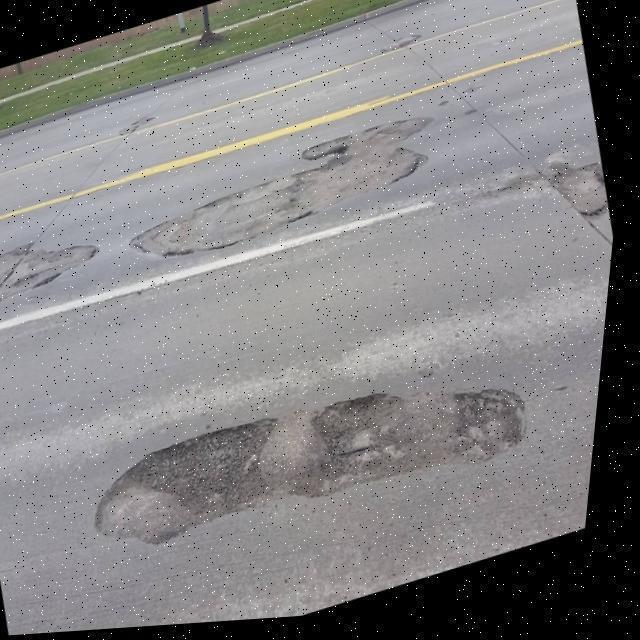Pothole: (89, 384, 540, 552), (124, 105, 437, 261), (2, 230, 104, 304)
